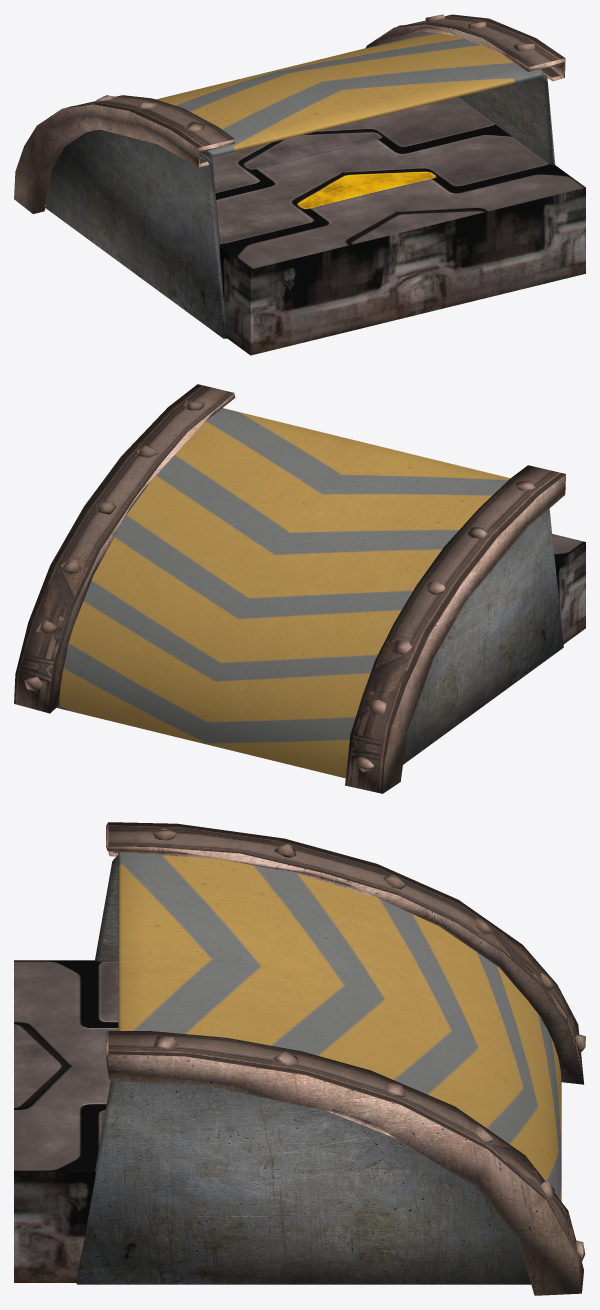
Rendered from underground-belt-input.glb.
3 views of the same model, one above another, from view 1: azimuth 30°, elevation 25°; view 2: azimuth 150°, elevation 25°; view 3: azimuth 270°, elevation 25° (orthographic). The views are drawn at different scales.
Visible parts, largest first — view 1: body; view 2: body; view 3: body.
Part boxes in pixels (x1=…): body: x1=14, y1=14, x2=585, y2=355; body: x1=14, y1=384, x2=585, y2=793; body: x1=14, y1=822, x2=585, y2=1295.
Size of the model in its own units: 0.9911 by 0.4859 by 1.03.
7 materials, 6 textured.
